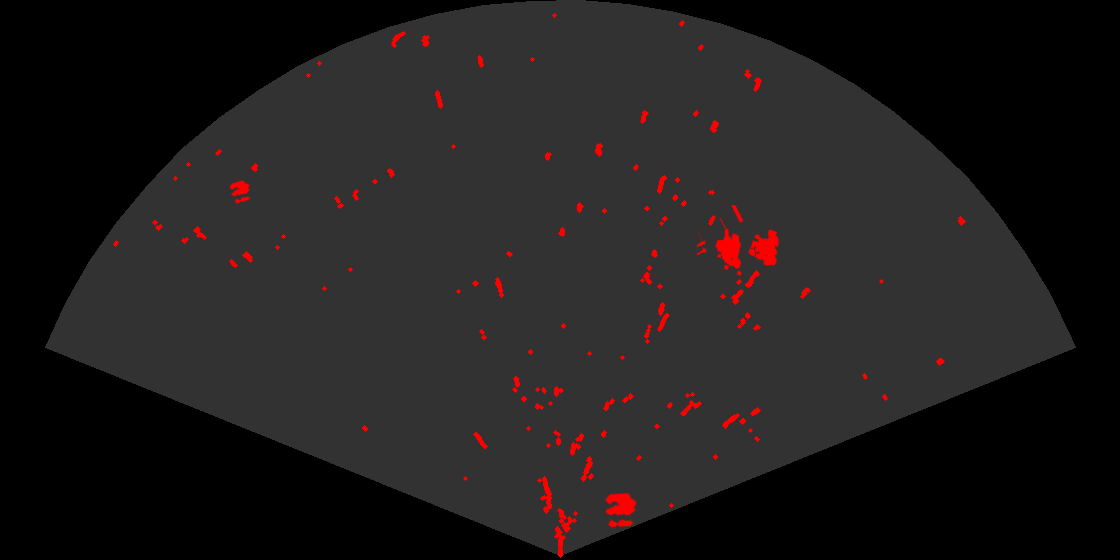ball: (603, 491, 638, 529), (228, 179, 252, 205)
cage: (697, 205, 781, 277)
